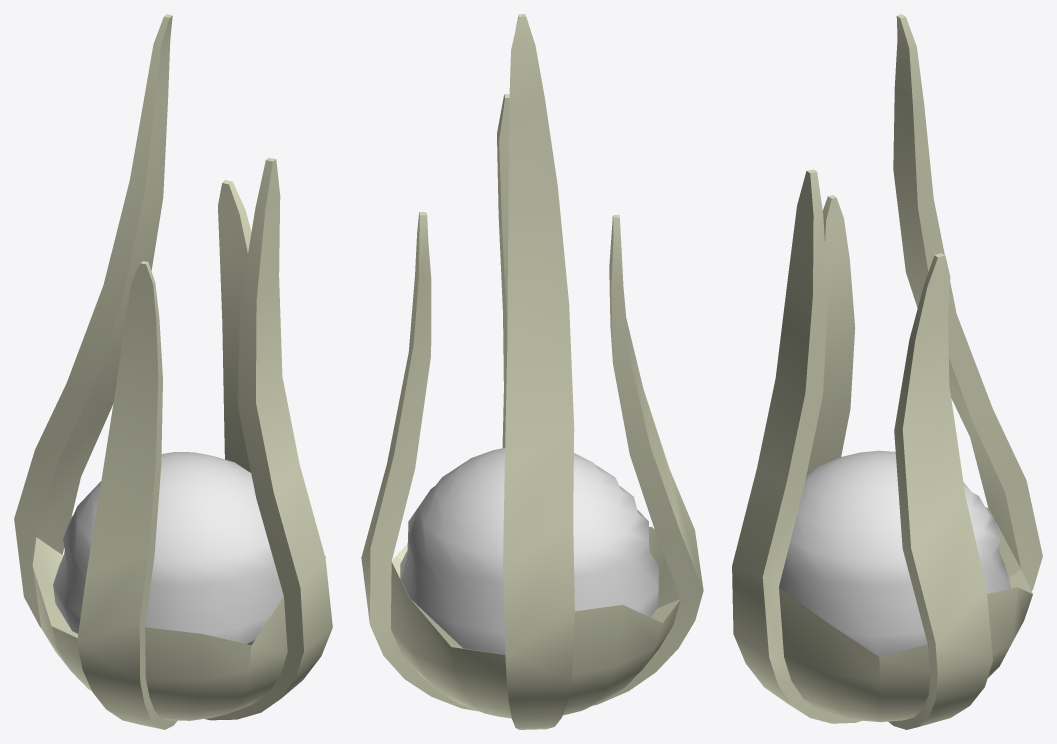
The model's file is soportesuperior.fbx.
The picture shows the model from 3 angles, left to right: view 1: azimuth 30°, elevation 25°; view 2: azimuth 150°, elevation 25°; view 3: azimuth 270°, elevation 25°; orthographic projection. The views are drawn at different scales.
Parts seen in each view (by area): view 1: Cube.018; view 2: Cube.018; view 3: Cube.018.
Boxes of the visible parts, x1=… form: Cube.018: x1=14, y1=14, x2=332, y2=729; Cube.018: x1=361, y1=14, x2=703, y2=729; Cube.018: x1=732, y1=14, x2=1042, y2=729.
Bounding box in the file's own units: 119 × 285 × 115.
